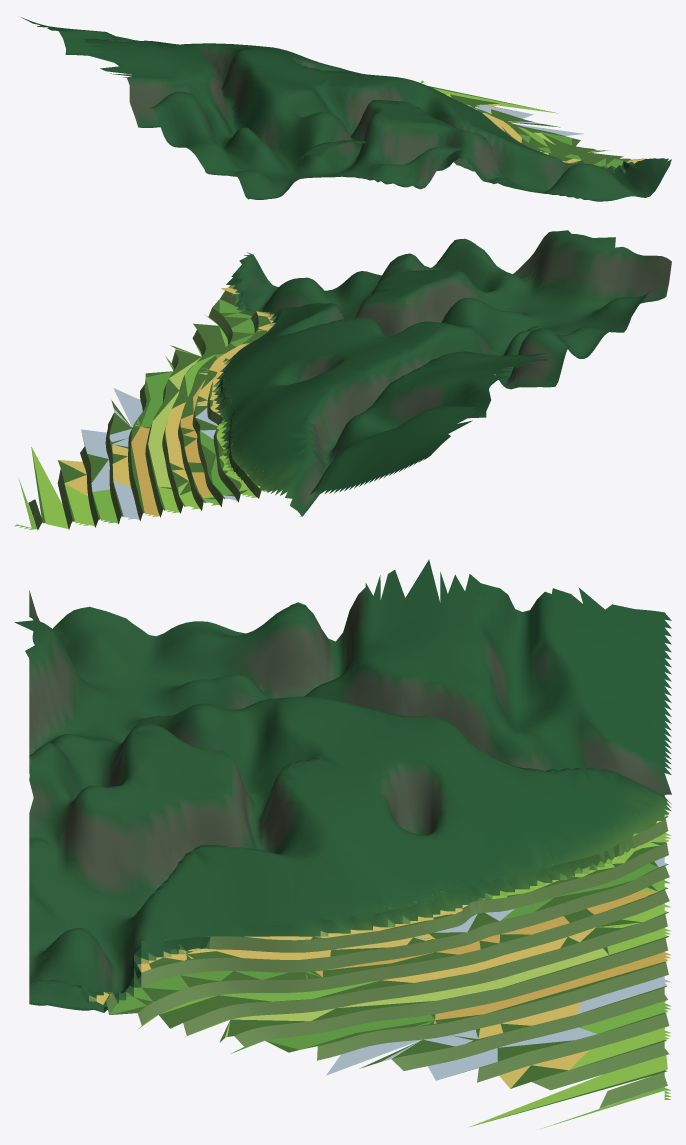
The model's file is payo_land_xm1_y5.glb.
3 views of the same model, one above another, from view 1: azimuth 30°, elevation 25°; view 2: azimuth 150°, elevation 25°; view 3: azimuth 270°, elevation 25° (orthographic). The views are drawn at different scales.
Parts seen in each view (by area): view 1: payo_land_xm1_y5; view 2: payo_land_xm1_y5; view 3: payo_land_xm1_y5.
Boxes of the visible parts, x1,y1,x2,y2 form: payo_land_xm1_y5: (21, 17, 671, 201); payo_land_xm1_y5: (14, 230, 671, 530); payo_land_xm1_y5: (14, 559, 671, 1128).
Size of the model in its own units: 301 by 116 by 264.
